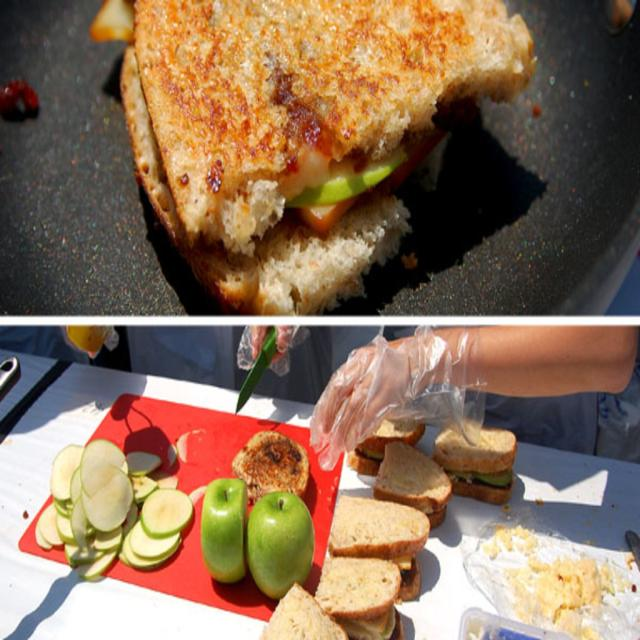Healty Apple: (241, 494, 312, 598), (198, 478, 252, 584)
